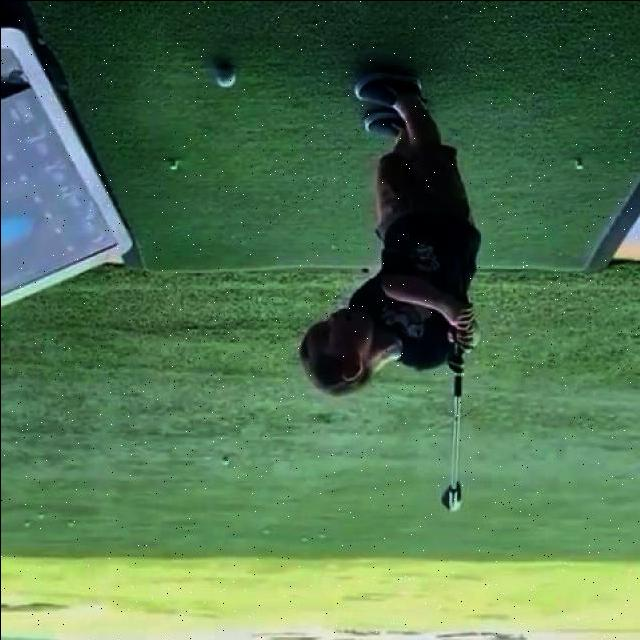ClubHandle: (438, 326, 477, 509)
ClubHead: (441, 489, 463, 508)
GolfBall: (209, 58, 237, 90)
